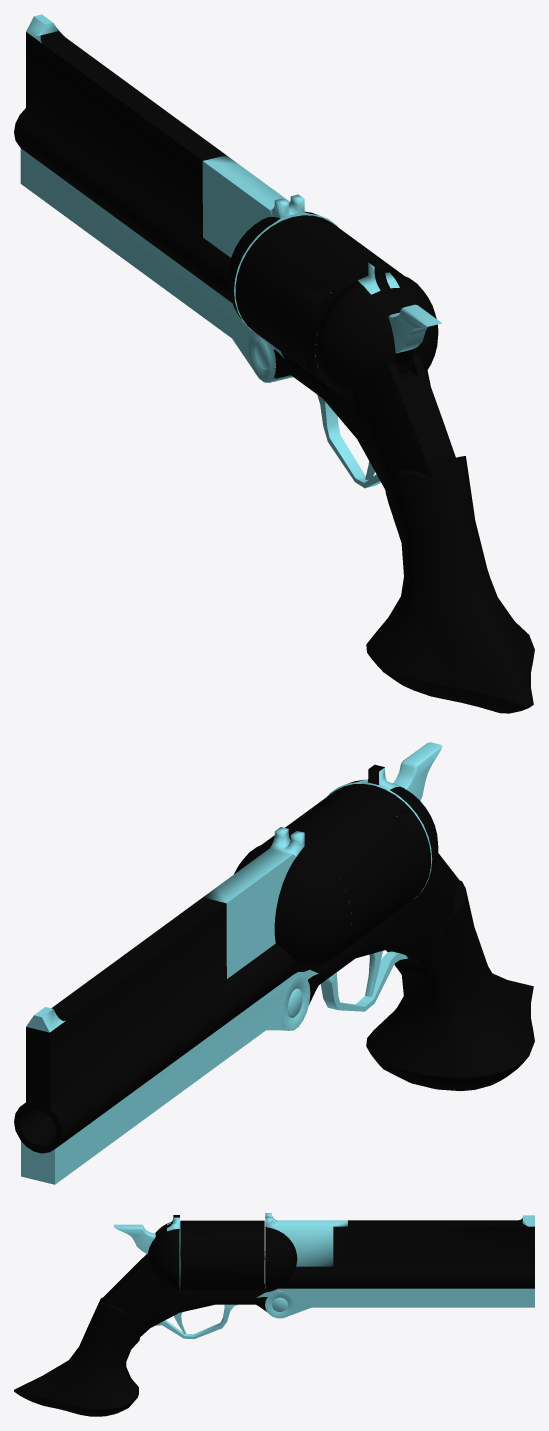
Rendered from KSGunV2.fbx.
The picture shows the model from 3 angles, top to bottom: view 1: azimuth 30°, elevation 25°; view 2: azimuth 150°, elevation 25°; view 3: azimuth 270°, elevation 25°; orthographic projection. The views are drawn at different scales.
Visible parts, largest first — view 1: HAndle Cannon.001; view 2: HAndle Cannon.001; view 3: HAndle Cannon.001.
Boxes of the visible parts, x1,y1,x2,y2 form: HAndle Cannon.001: (14, 14, 534, 713); HAndle Cannon.001: (14, 742, 534, 1184); HAndle Cannon.001: (14, 1213, 534, 1416).
Size of the model in its own units: 1472 by 3631 by 8754.
